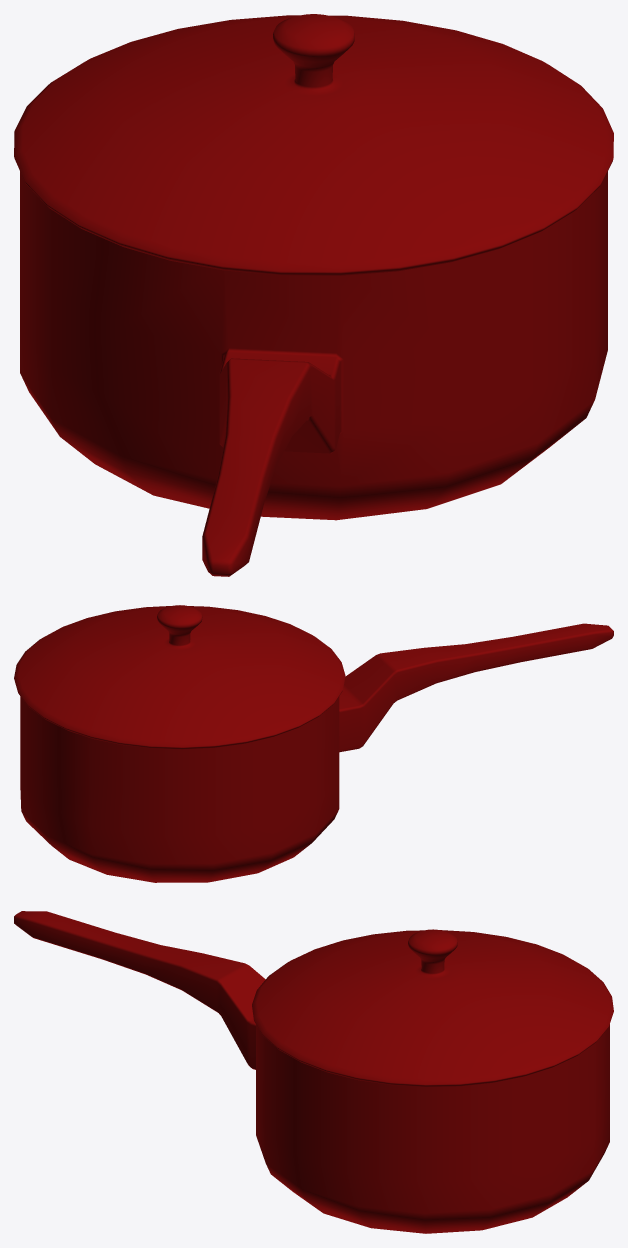
Rendered from HalloweenRoomA_PotA.fbx.
The picture shows the model from 3 angles, top to bottom: view 1: azimuth 30°, elevation 25°; view 2: azimuth 150°, elevation 25°; view 3: azimuth 270°, elevation 25°; orthographic projection. The views are drawn at different scales.
Parts seen in each view (by area): view 1: HalloweenRoomA_PotA; view 2: HalloweenRoomA_PotA; view 3: HalloweenRoomA_PotA.
Boxes of the visible parts, x1,y1,x2,y2 form: HalloweenRoomA_PotA: (14, 14, 613, 576); HalloweenRoomA_PotA: (14, 605, 613, 882); HalloweenRoomA_PotA: (14, 911, 613, 1233).
Size of the model in its own units: 35.01 by 18.58 by 42.78.
